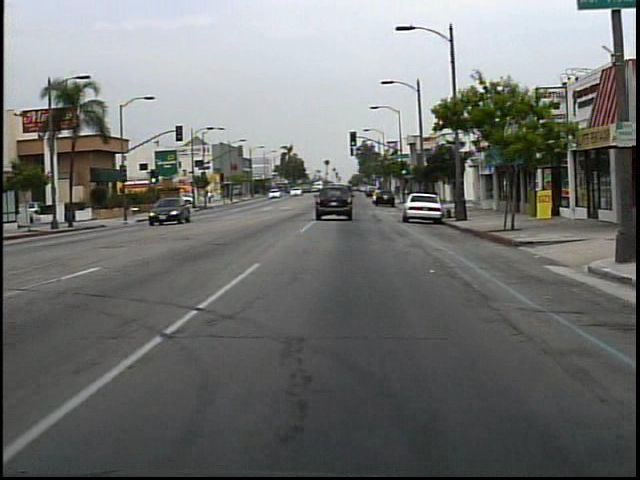person: (206, 187, 215, 206)
